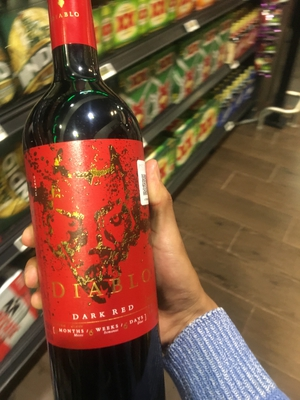diablo dark red: (20, 6, 175, 388)
